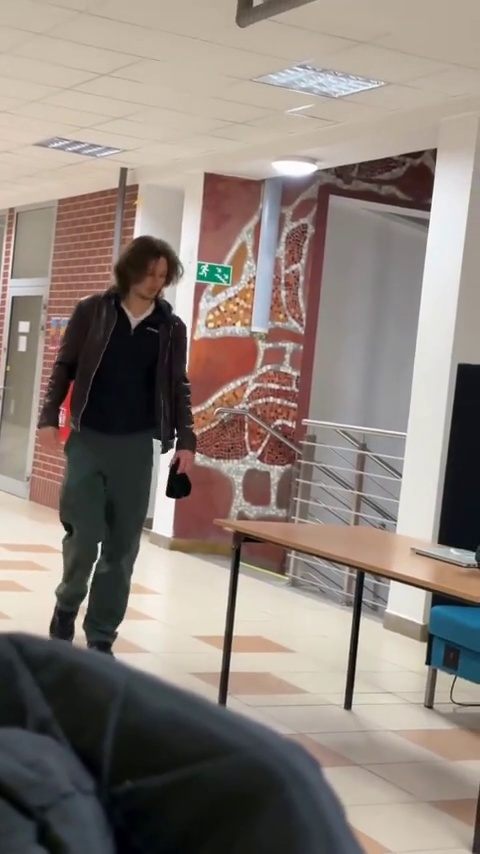no vest: (46, 240, 204, 641)
